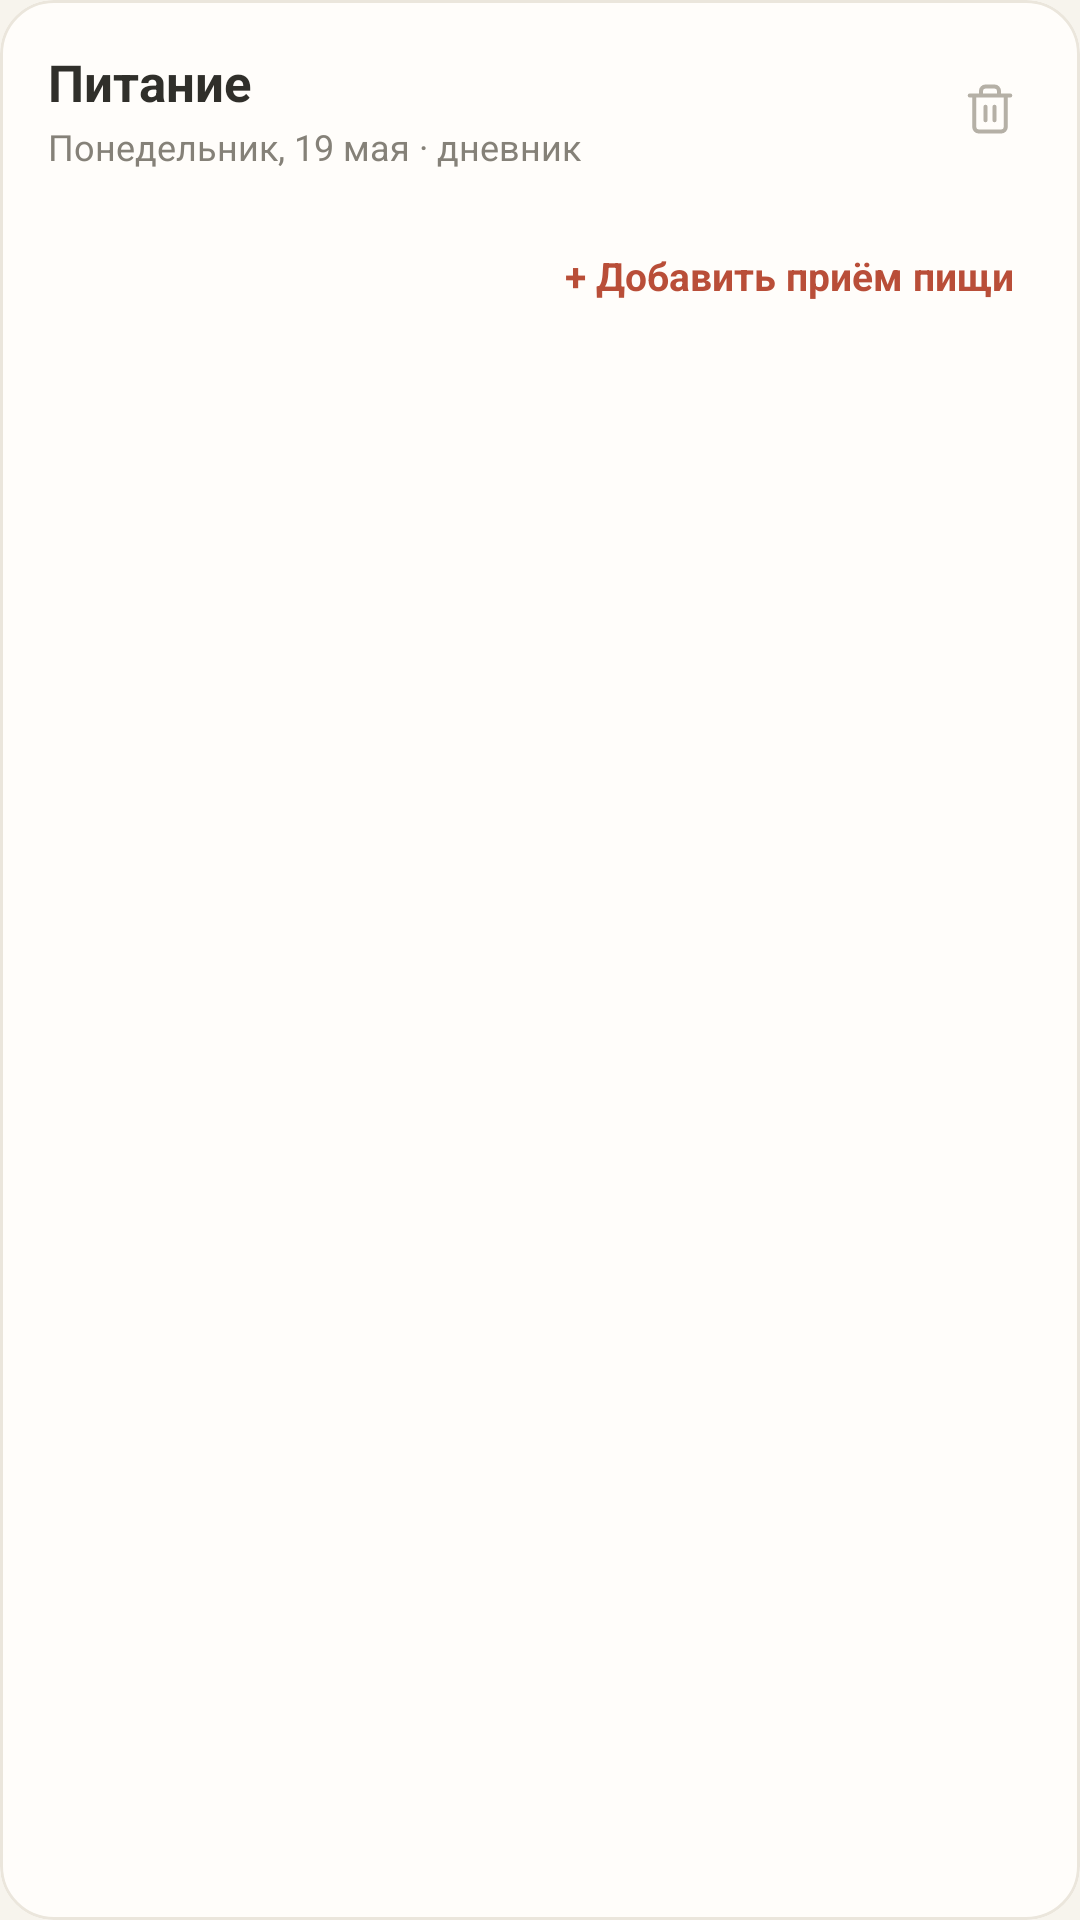

Locate icon controls on the screen. Image size 1080x1920, boxes as [x1, y1, x2, y2].
Удалить блок: [968, 84, 1012, 134]
